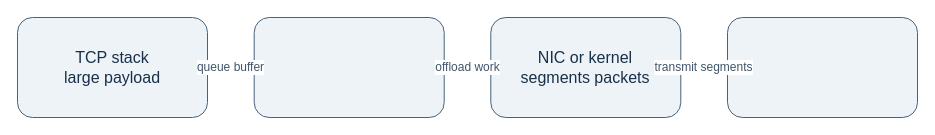
This 935x135 diagram has some shape labels left out. The shapes that lost their labels are listed below. From the top down, each one's centre as x and y in pixels, then its label:
At point (348, 67): "TSO / GSO large buffer".
At point (822, 67): "Wire MTU-sized TCP segments".
